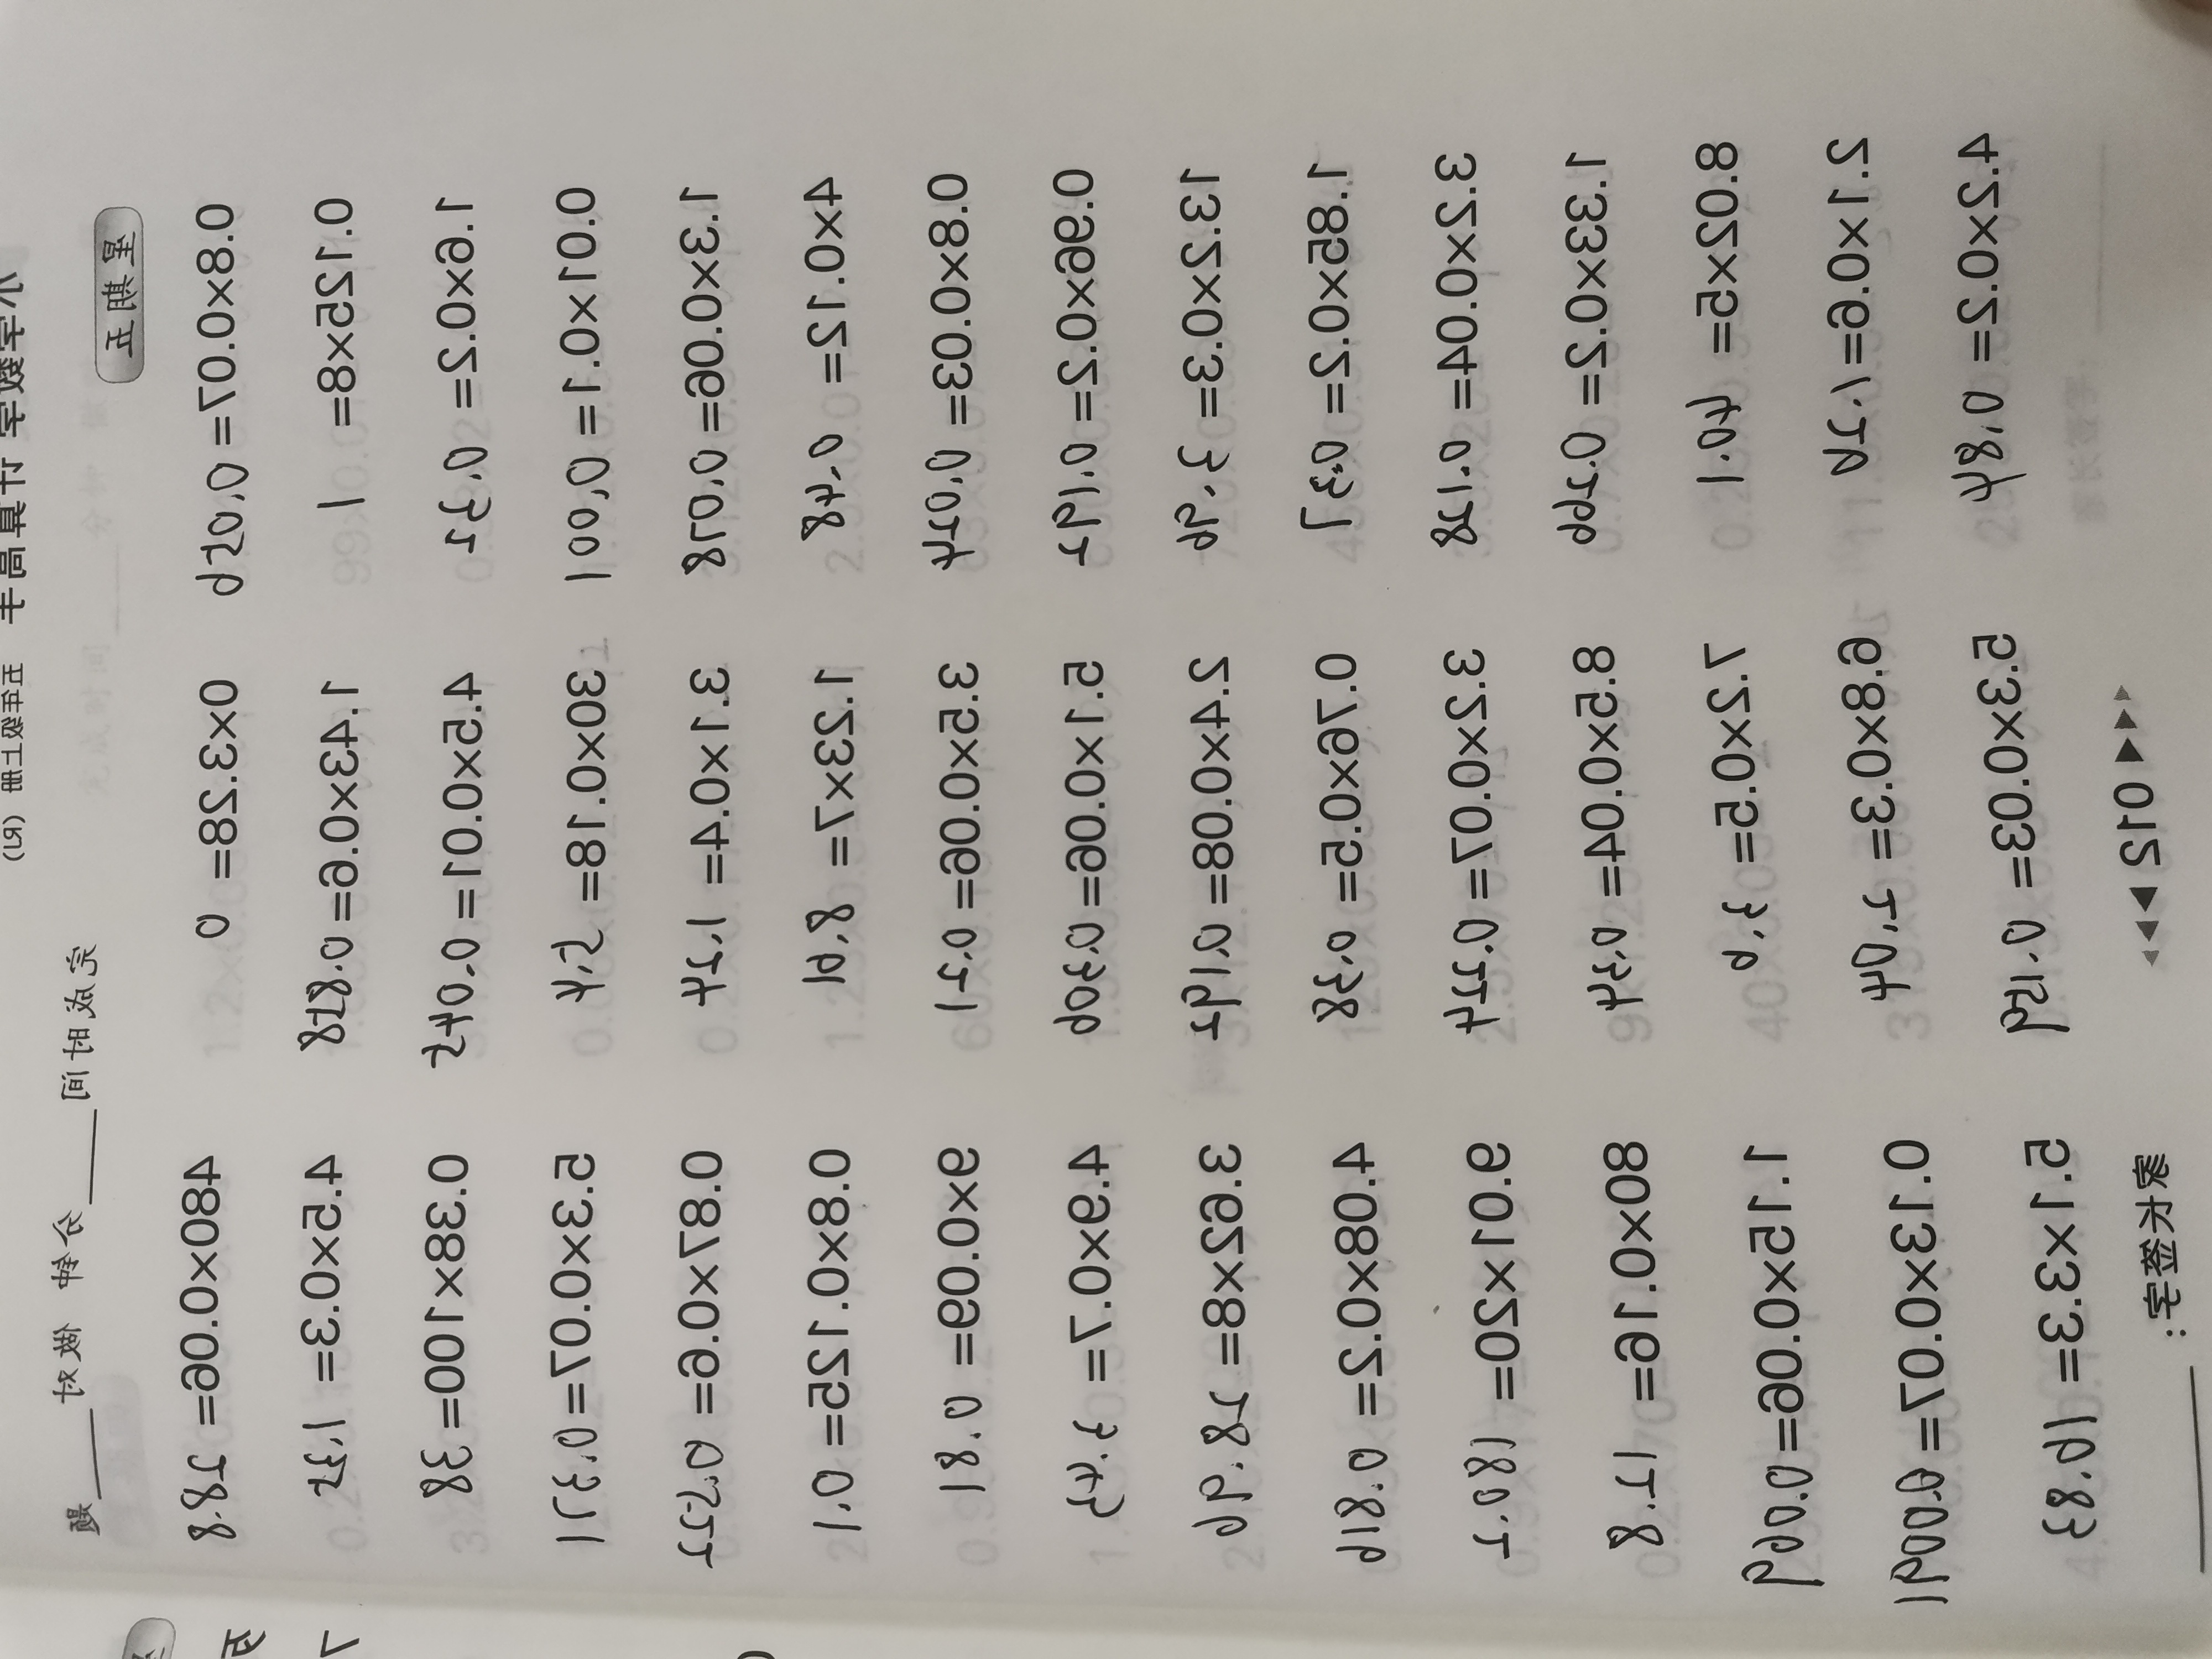equation: (819, 101, 1399, 195), (1500, 286, 2130, 371), (1496, 188, 2153, 263), (1489, 78, 2081, 159), (1505, 610, 2118, 683), (1521, 1467, 2087, 1546), (221, 1187, 813, 1262), (831, 415, 1392, 493), (1494, 1107, 2109, 1176), (157, 131, 686, 211), (843, 714, 1428, 786), (850, 521, 1395, 596), (1512, 1004, 2069, 1077), (1491, 401, 2102, 467), (838, 216, 1352, 295), (1510, 800, 2059, 873), (1501, 1194, 2085, 1262), (1507, 709, 2081, 777), (160, 338, 681, 413), (246, 1459, 819, 1527), (1501, 507, 2104, 572), (228, 1098, 798, 1166), (1507, 908, 2026, 979), (239, 1277, 754, 1349), (867, 1290, 1435, 1354), (169, 443, 759, 504), (209, 826, 777, 889), (838, 324, 1320, 397), (246, 1368, 716, 1443), (862, 1098, 1355, 1169), (216, 1014, 752, 1079), (1514, 1297, 2019, 1364), (221, 918, 773, 979), (190, 634, 737, 695), (183, 538, 752, 596), (850, 627, 1385, 688), (878, 1385, 1425, 1445), (866, 915, 1379, 978), (1510, 1385, 2020, 1448), (862, 821, 1399, 880), (873, 1007, 1350, 1073), (160, 244, 662, 307), (204, 734, 751, 791), (873, 1195, 1346, 1258), (885, 1473, 1285, 1528)
